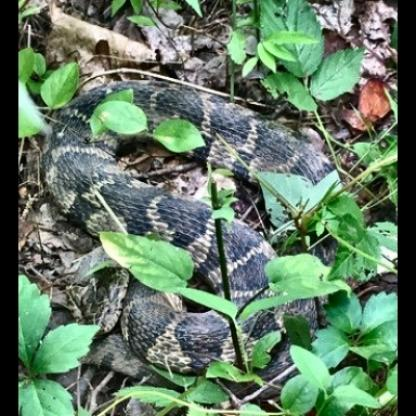Snake: (59, 27, 371, 385)
